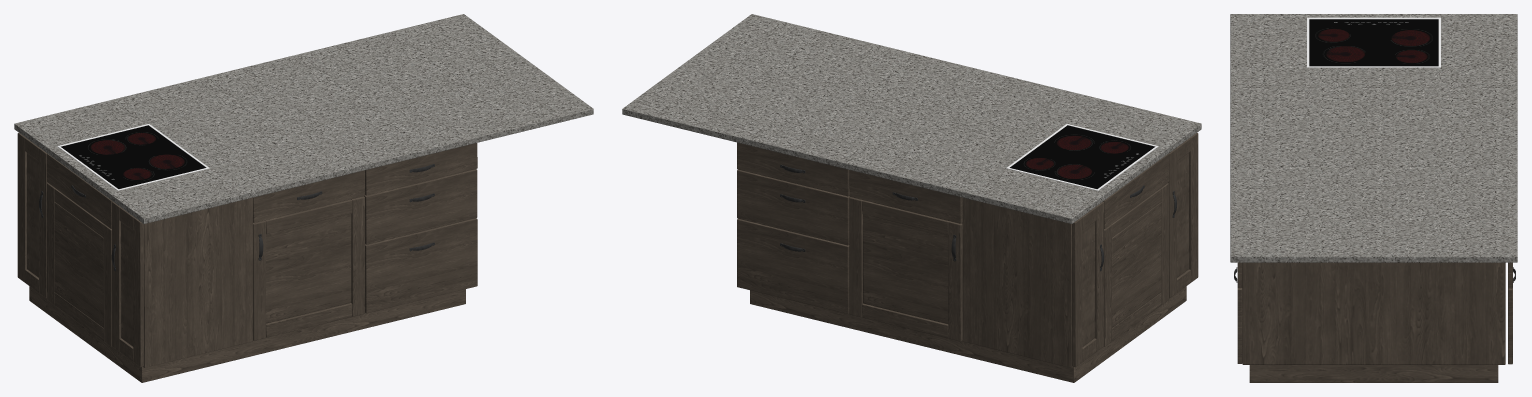
File: ilha_cozinha-v1.glb
3 renders of one model, left to right at view 1: azimuth 30°, elevation 25°; view 2: azimuth 150°, elevation 25°; view 3: azimuth 270°, elevation 25°, orthographic. The views are drawn at different scales.
Visible parts, largest first — view 1: Timber_island; view 2: Timber_island; view 3: Timber_island.
Boxes of the visible parts, x1=… form: Timber_island: x1=14, y1=14, x2=593, y2=382; Timber_island: x1=622, y1=14, x2=1201, y2=382; Timber_island: x1=1230, y1=14, x2=1517, y2=382.
Bounding box in the file's own units: 2.41 × 0.883 × 1.2.
5 materials, 3 textured.
